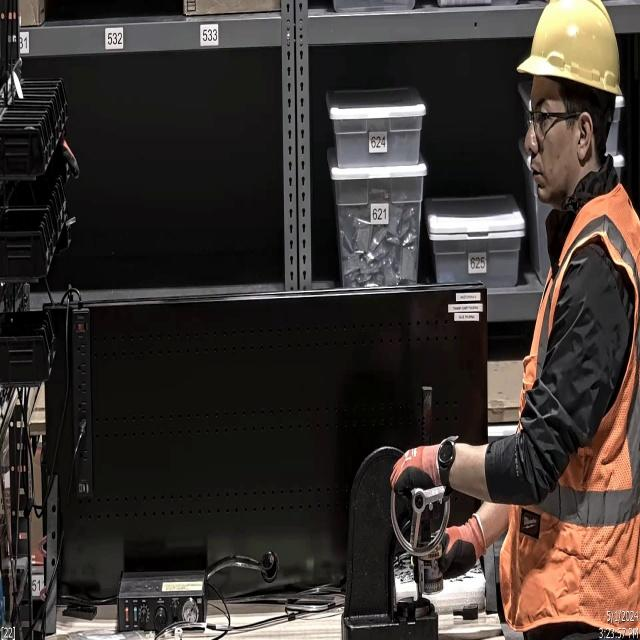construction-gloves: (412, 512, 492, 598), (388, 432, 460, 516)
